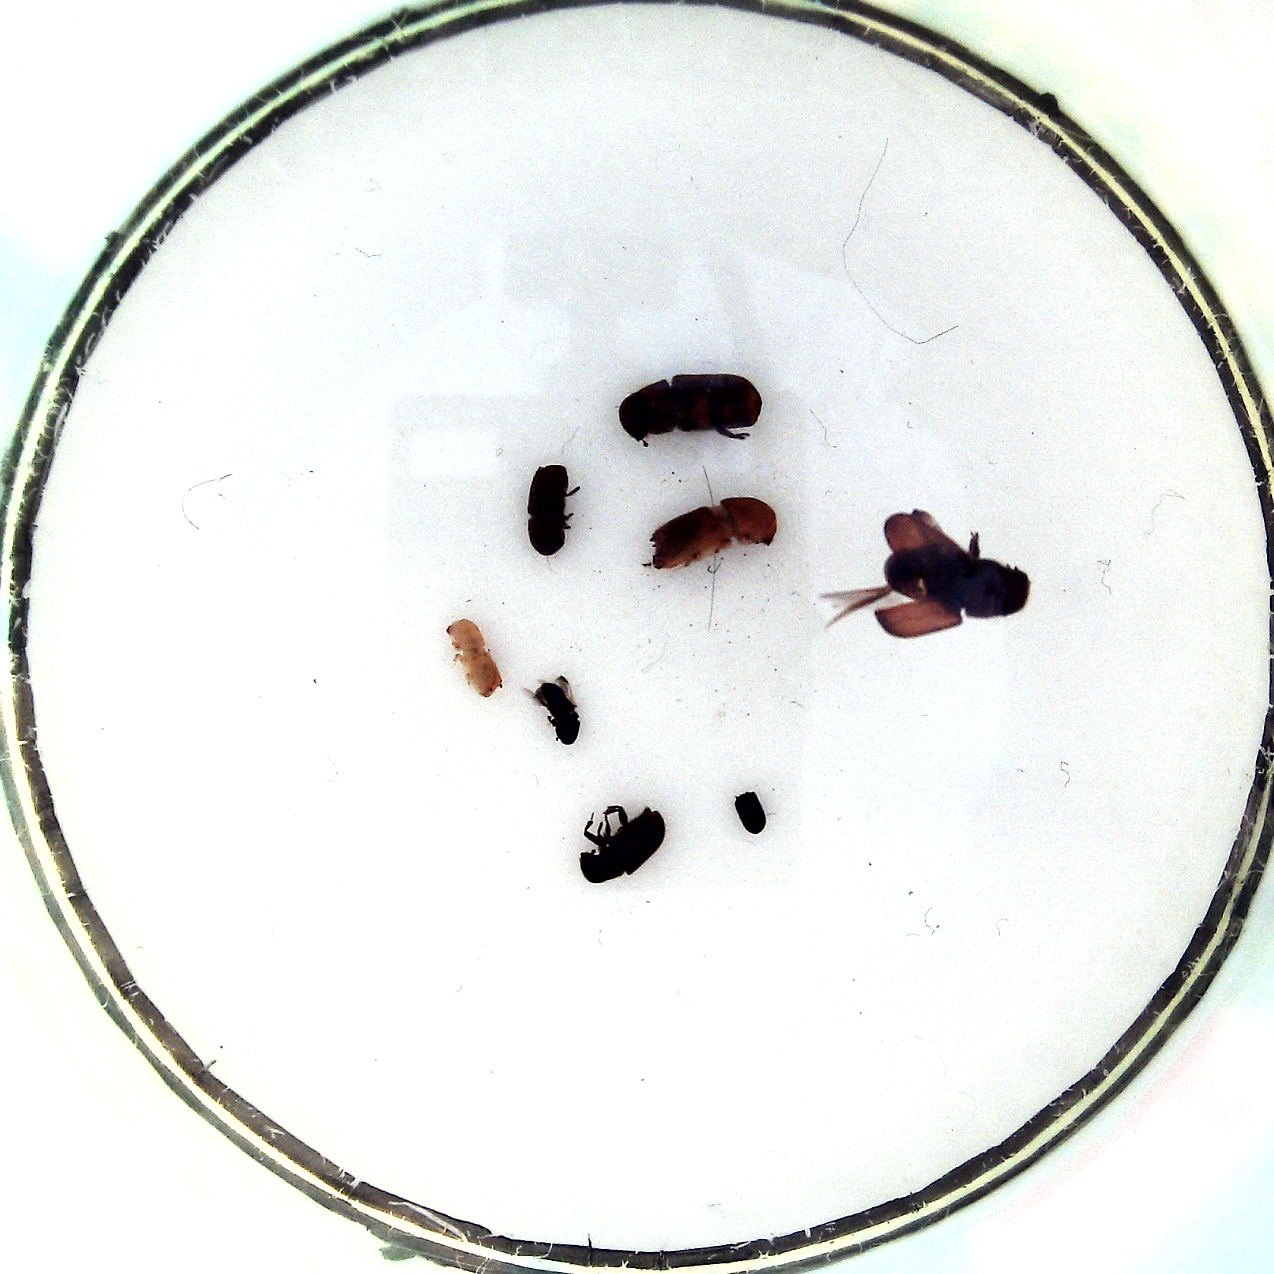Boerner: (638, 491, 787, 570)
Leconte: (810, 503, 1035, 644), (610, 367, 769, 449)
Linnaeus: (527, 459, 582, 558)
acuminatus: (437, 611, 509, 703)
armandi: (577, 794, 671, 885)
coleoptera: (518, 672, 586, 749), (728, 786, 773, 836)
